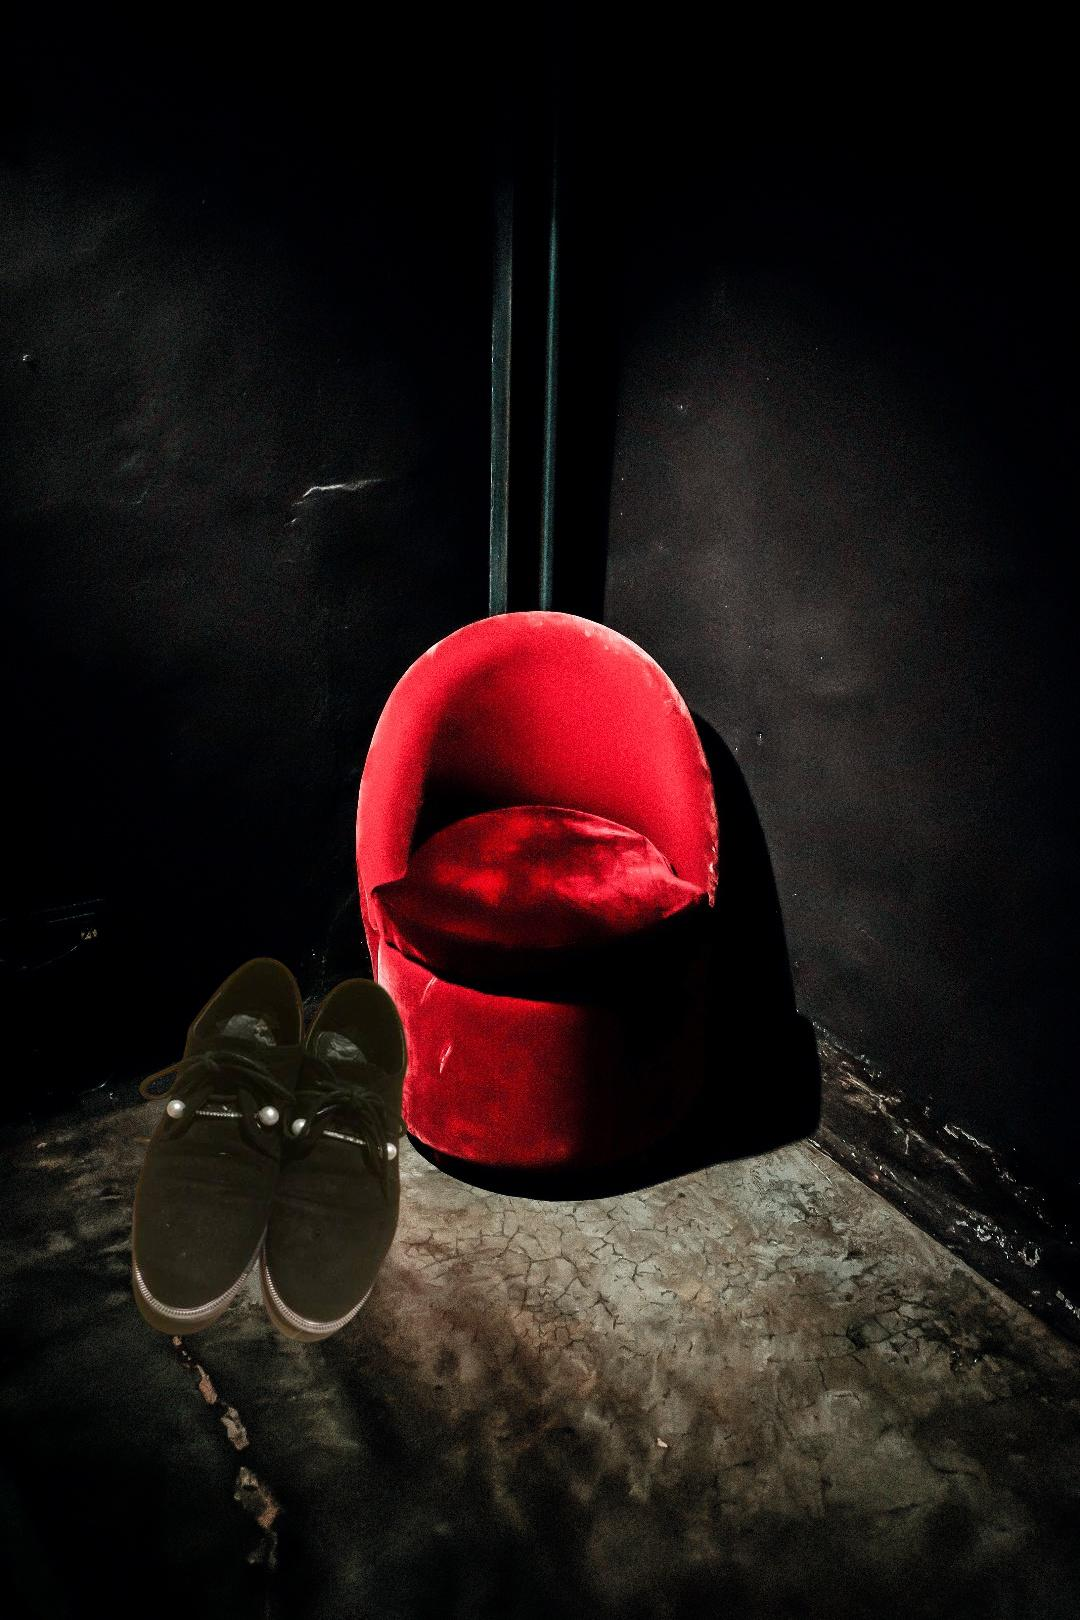shoes: (128, 953, 412, 1348)
